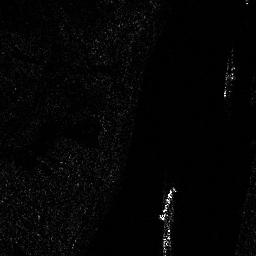ship: (159, 187, 176, 221)
